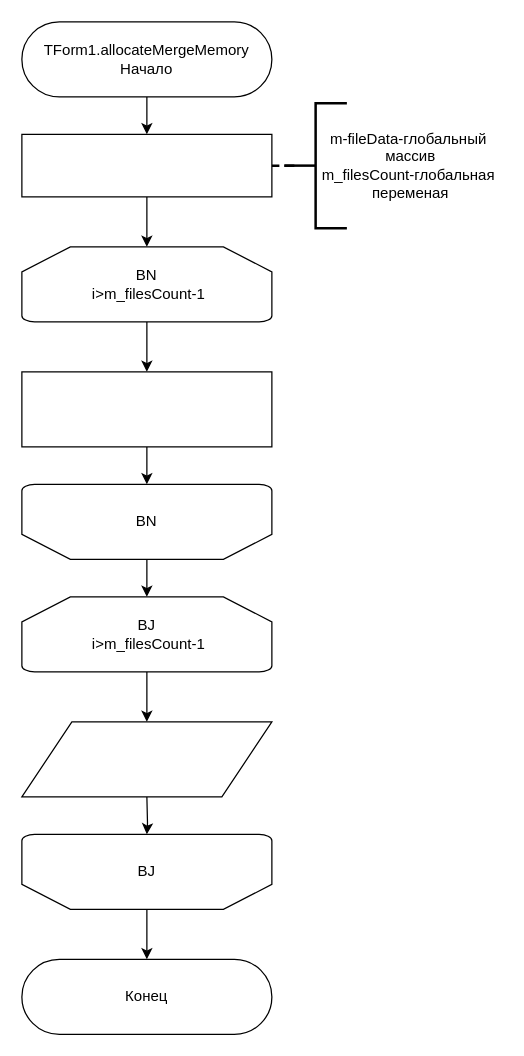
The diagram is 524 pixels wide and 1056 high, and some of its shapes have lost their labels. Here are the shapes that lost their labels. From the top down, the centre of each, then its label:
the point at 146,165: setlength(m_fileData,m_filesCount); i:=0
the point at 146,409: ptr:=nil; new(ptr); m_fileData[i]:=ptr;
the point at 146,759: read(m_fileArray[i]^, m_fileData[i]^);
